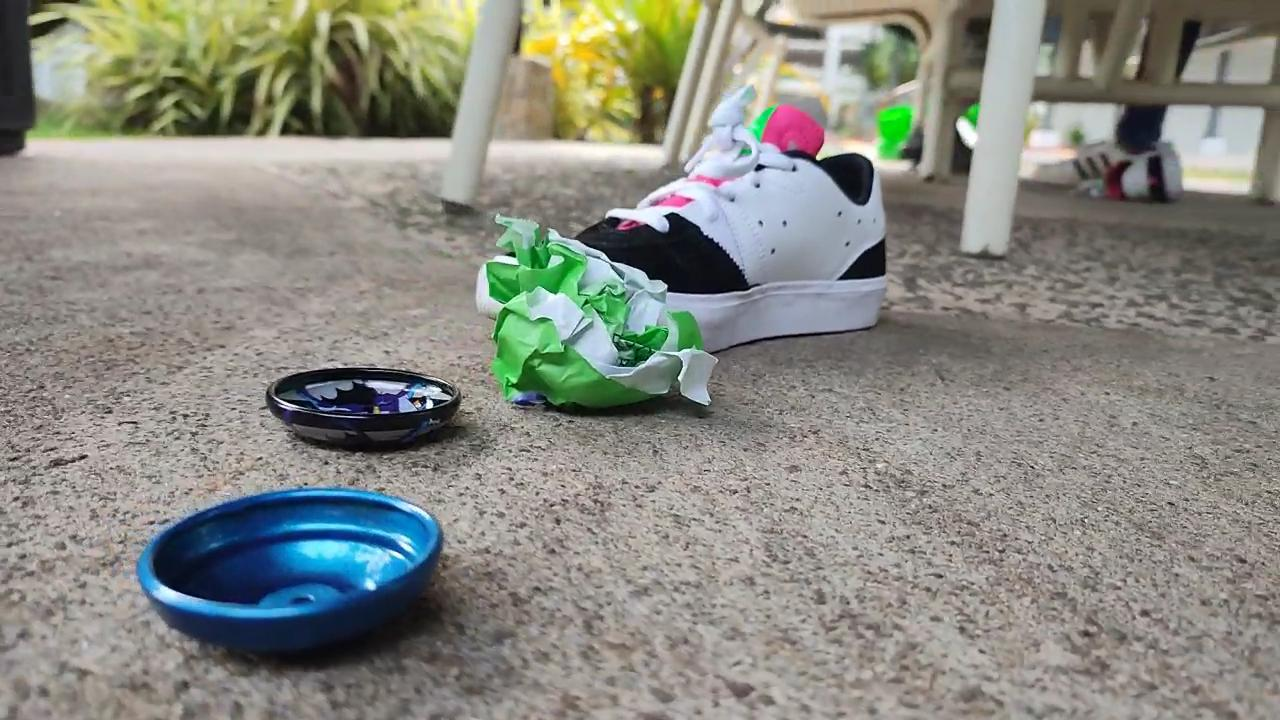Paper: (468, 191, 725, 430)
